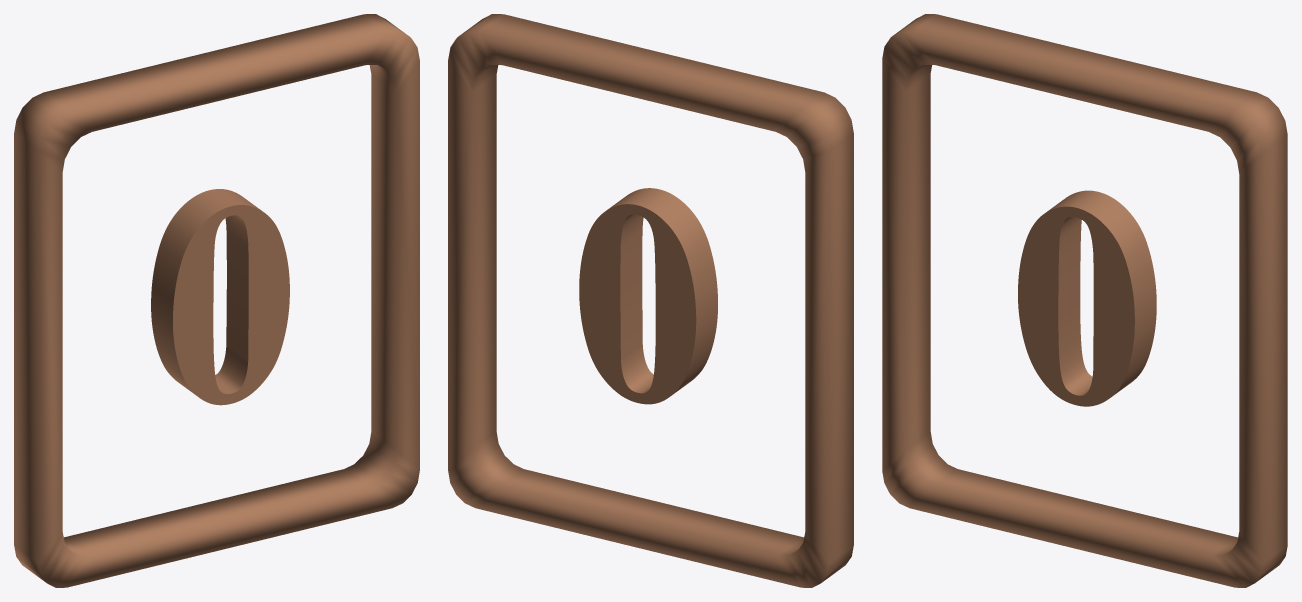
The model's file is Number_0.gltf.
3 renders of one model, left to right at view 1: azimuth 30°, elevation 25°; view 2: azimuth 150°, elevation 25°; view 3: azimuth 330°, elevation 25°, orthographic.
Parts seen in each view (by area): view 1: Numbers.001; view 2: Numbers.001; view 3: Numbers.001.
Part boxes in pixels (x1,y1,x2,y2): Numbers.001: (14,14,419,587); Numbers.001: (448,14,853,587); Numbers.001: (882,14,1287,587).
Size of the model in its own units: 1 by 1.2 by 0.1143.
